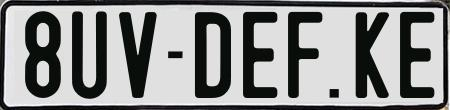8: (23, 10, 63, 103)
D: (192, 12, 228, 98)
E: (242, 12, 282, 102), (400, 12, 433, 100)
F: (286, 9, 323, 99)
K: (353, 12, 387, 102)
U: (69, 11, 110, 105)
V: (118, 11, 159, 103)
